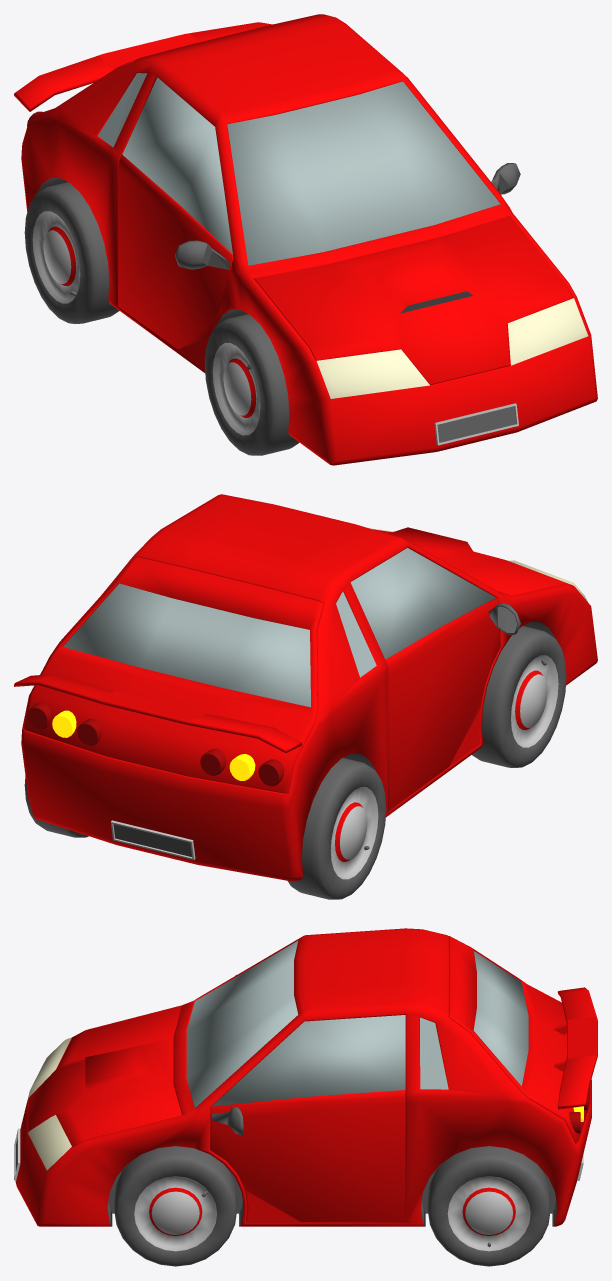
File: Cartoon_SportCar_B01.dae
The picture shows the model from 3 angles, top to bottom: view 1: azimuth 30°, elevation 25°; view 2: azimuth 150°, elevation 25°; view 3: azimuth 270°, elevation 25°; orthographic projection. The views are drawn at different scales.
Visible parts, largest first — view 1: carrosserie, elements, hood, door_front_R, Tire_Back_R, Tire_Front_R, glass_front_R, spoiler, door_front_L; view 2: carrosserie, Trunk, door_front_R, Tire_Back_R, Tire_Front_R, glass_front_R, spoiler, hood, elements; view 3: carrosserie, door_front_L, elements, hood, Trunk, Tire_Back_L, Tire_Front_L, glass_front_L, spoiler.
Boxes of the visible parts, x1,y1,x2,y2 form: carrosserie: (21,14,597,465); elements: (98,73,588,445); hood: (254,216,573,385); door_front_R: (118,154,233,368); Tire_Back_R: (24,182,119,323); Tire_Front_R: (204,314,299,455); glass_front_R: (122,77,232,254); spoiler: (14,22,272,111); door_front_L: (491,163,520,194); carrosserie: (21,494,597,881); Trunk: (22,557,323,793); door_front_R: (385,597,520,811); Tire_Back_R: (287,758,386,899); Tire_Front_R: (472,626,566,767); glass_front_R: (350,548,496,659); spoiler: (14,674,301,752); hood: (373,527,572,595); elements: (110,528,587,859); carrosserie: (15,928,591,1226); door_front_L: (210,1090,405,1222); elements: (14,940,583,1180); hood: (28,1006,181,1146); Trunk: (448,936,590,1143); Tire_Back_L: (427,1146,550,1266); Tire_Front_L: (114,1146,237,1266); glass_front_L: (211,1015,405,1106); spoiler: (554,987,597,1109).
Bounding box in the file's own units: 190 × 322 × 147.
